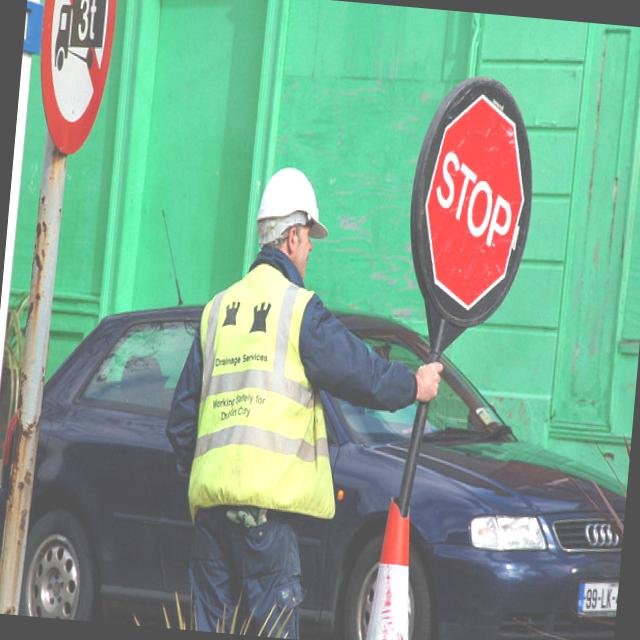Vehicle: (0, 281, 639, 640)
